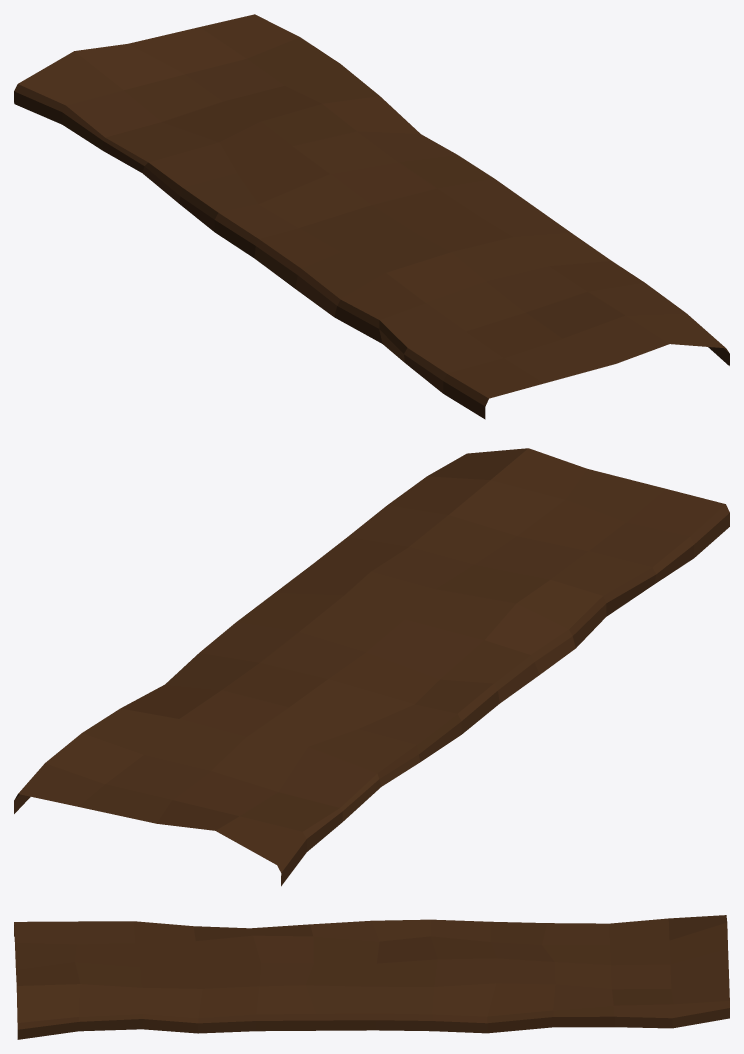
Rendered from RoadDirty_9.fbx.
The picture shows the model from 3 angles, top to bottom: view 1: azimuth 30°, elevation 25°; view 2: azimuth 150°, elevation 25°; view 3: azimuth 270°, elevation 25°; orthographic projection. The views are drawn at different scales.
Visible parts, largest first — view 1: RoadDirty_9; view 2: RoadDirty_9; view 3: RoadDirty_9.
Part boxes in pixels (bbox=[...]): RoadDirty_9: bbox=[14, 14, 729, 419]; RoadDirty_9: bbox=[14, 448, 729, 886]; RoadDirty_9: bbox=[14, 915, 729, 1039].
Size of the model in its own units: 322 by 48.3 by 911.
